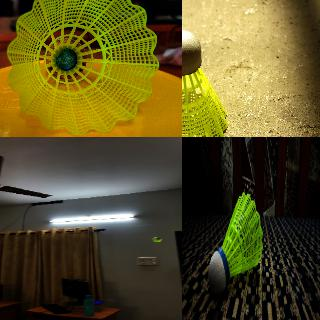shuttlecock: (7, 0, 160, 134), (208, 191, 262, 294), (182, 29, 228, 136), (152, 237, 162, 242)
